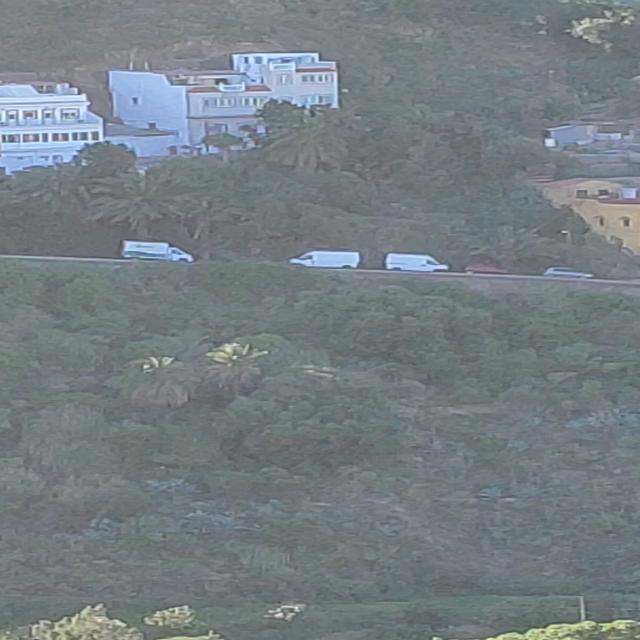Palm-Trees: (98, 174, 184, 248), (110, 359, 212, 418), (261, 116, 352, 178), (206, 342, 267, 400)
